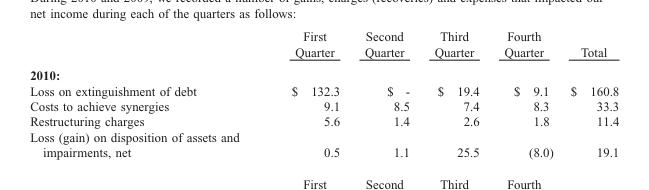table: (29, 28, 618, 159)
table column: (29, 28, 264, 159), (264, 28, 351, 159), (351, 28, 421, 159), (421, 28, 491, 159), (491, 28, 561, 159), (561, 28, 618, 159)
table column header: (29, 28, 618, 62)
table projected row header: (29, 62, 618, 82)
table row: (29, 28, 618, 62), (29, 128, 618, 159), (29, 62, 618, 82), (29, 97, 618, 113), (29, 82, 618, 97), (29, 113, 618, 128)
